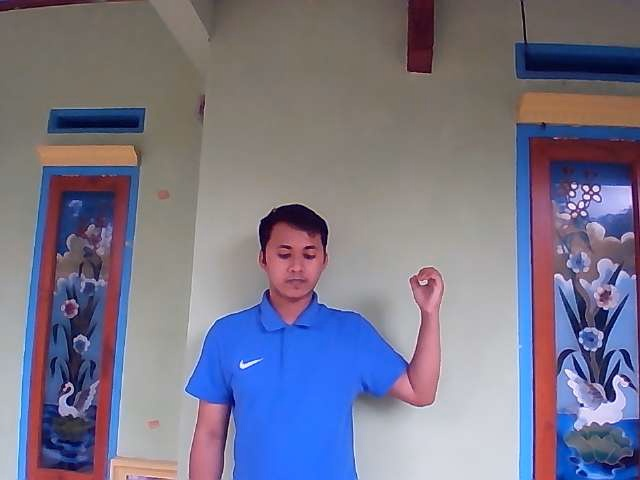O: (408, 264, 447, 314)
